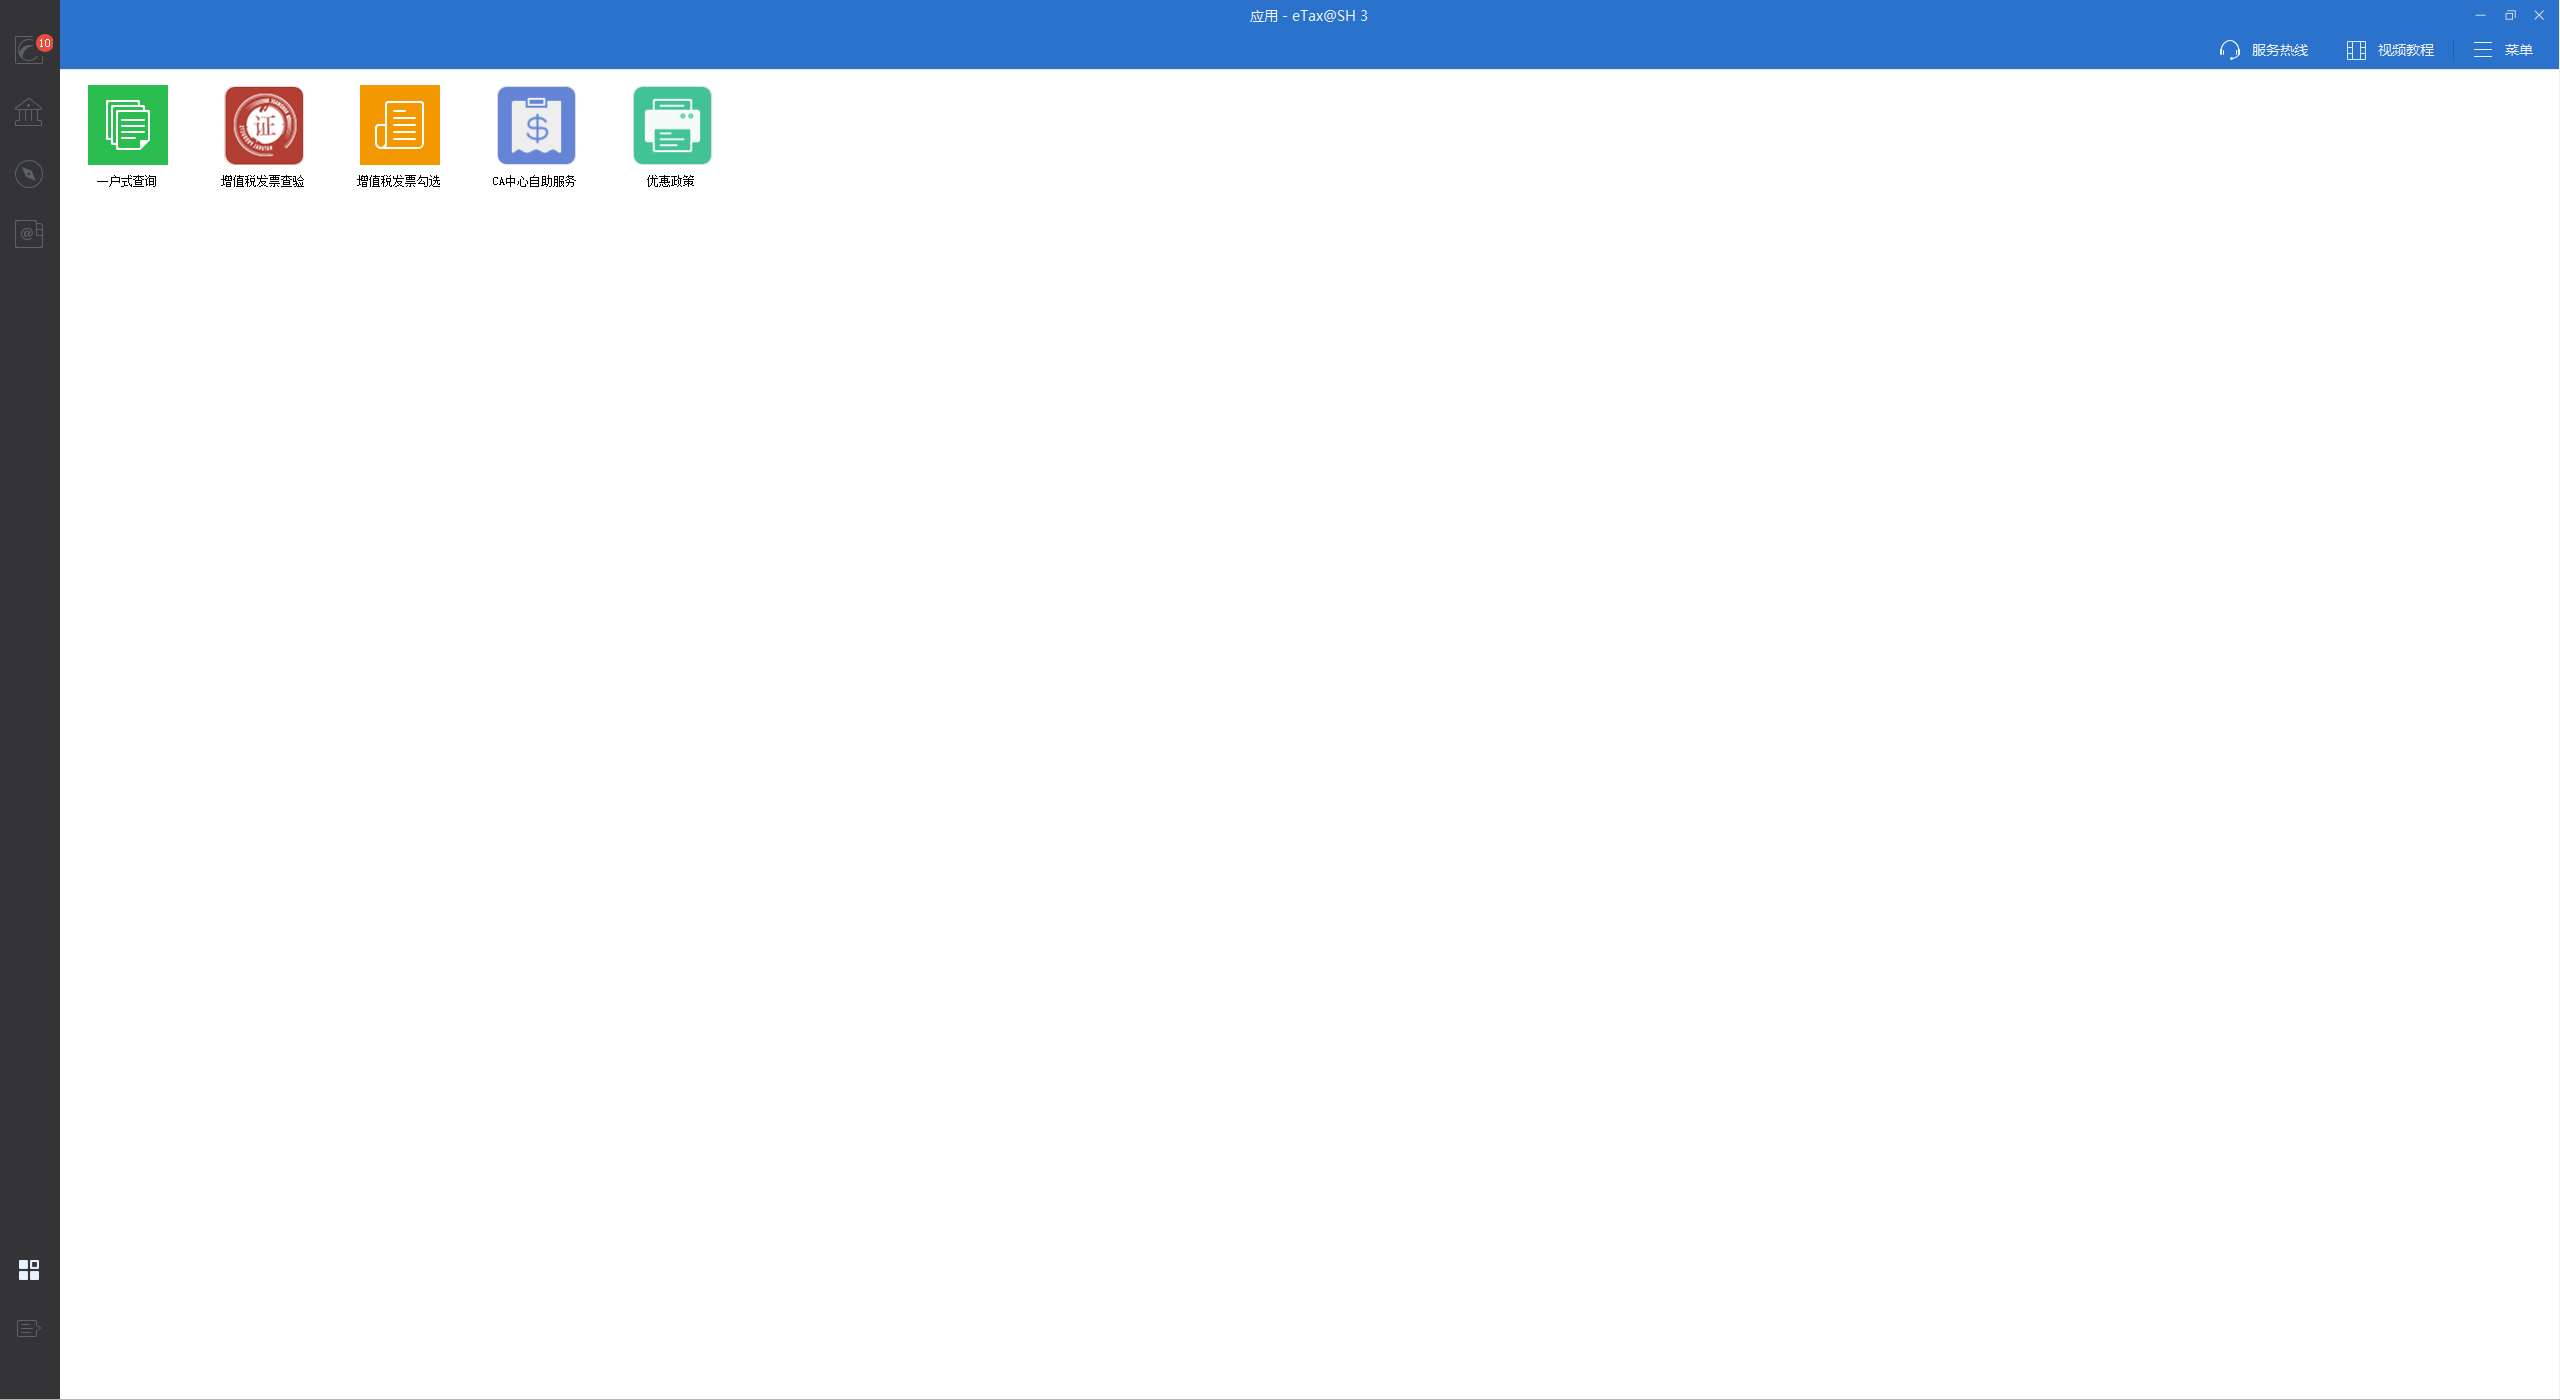character: (1250, 9, 1376, 22), (491, 174, 583, 190), (2250, 40, 2310, 59), (2381, 41, 2438, 60), (221, 178, 303, 190), (638, 176, 698, 190), (359, 179, 438, 190), (97, 179, 162, 190), (2507, 41, 2536, 57)
icon: (84, 81, 171, 167), (355, 83, 443, 167), (629, 86, 715, 166), (222, 86, 305, 167), (493, 86, 576, 167), (14, 33, 50, 64), (14, 159, 43, 188), (14, 219, 45, 247), (14, 97, 41, 126), (17, 1259, 40, 1279), (16, 1319, 41, 1336), (2219, 40, 2241, 59), (2346, 40, 2365, 60), (2474, 40, 2493, 59), (2472, 7, 2488, 22), (2531, 7, 2546, 22), (2503, 7, 2519, 21)
